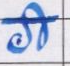i_matra: (28, 2, 49, 50)
